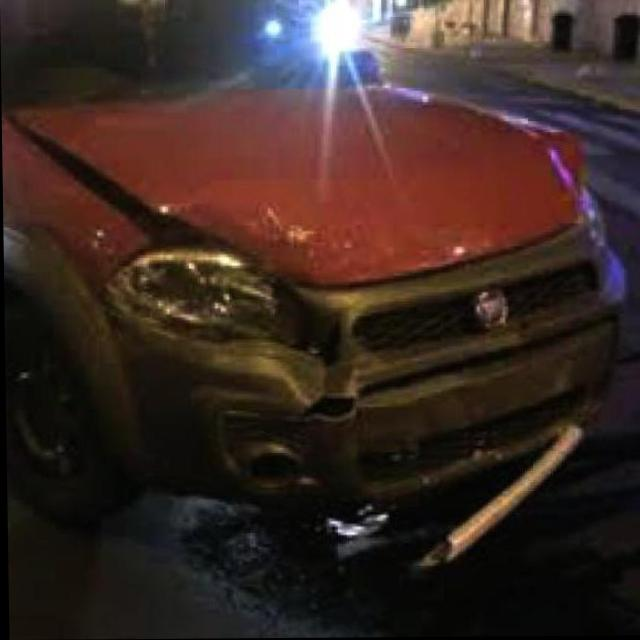Car-Damage: (106, 188, 579, 569)
